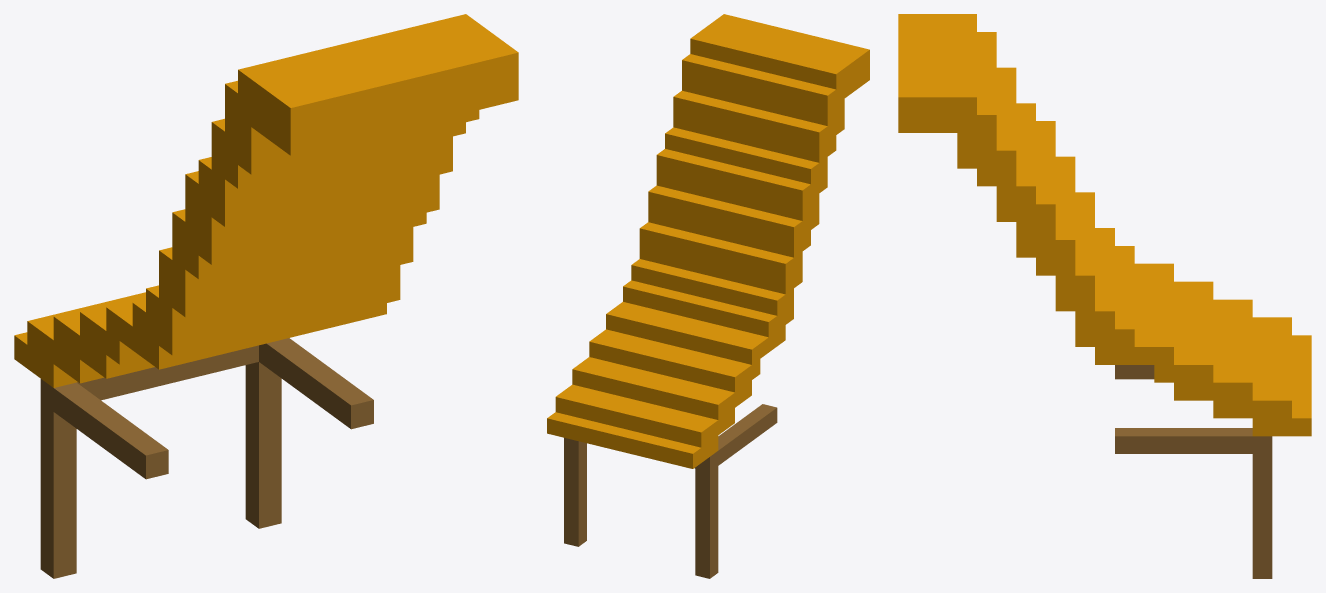
Rendered from thatch roof 2.glb.
3 views of the same model, side by side, from view 1: azimuth 30°, elevation 25°; view 2: azimuth 150°, elevation 25°; view 3: azimuth 270°, elevation 25° (orthographic). The views are drawn at different scales.
Visible parts, largest first — view 1: pl0; view 2: pl0; view 3: pl0.
Part boxes in pixels (<box>): pl0: <box>14,14,518,578</box>; pl0: <box>547,14,869,578</box>; pl0: <box>898,14,1311,578</box>.
Bounding box in the file's own units: 1 × 2.7 × 2.1.
1 material, 1 textured.
